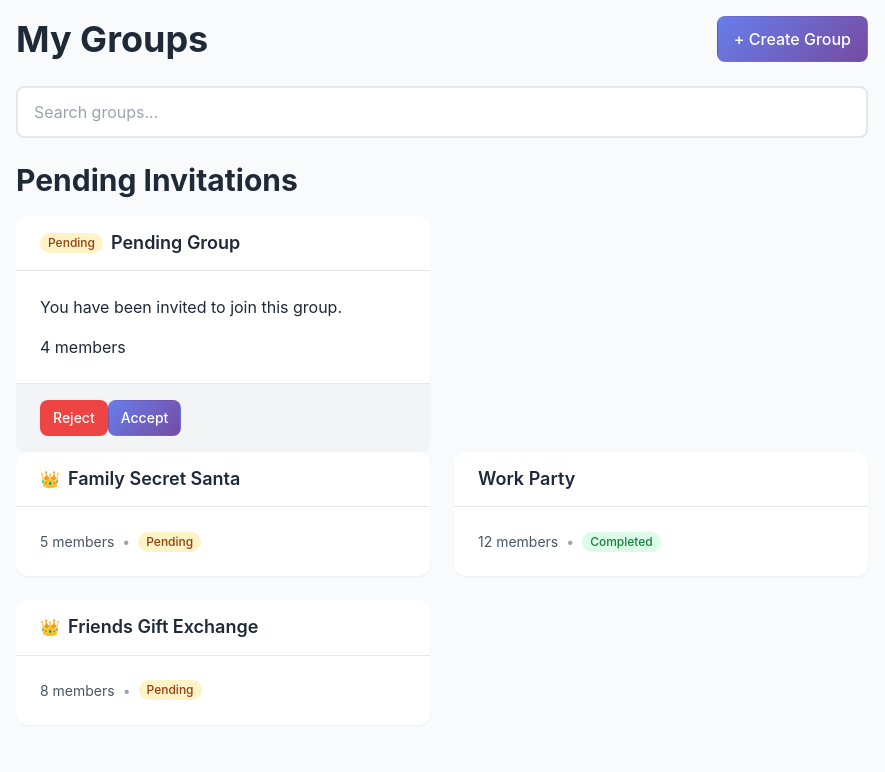
Test: GroupListComponent › Pending Invitations › should show invitation error on accept failure
Click the button with test id "accept-pending-1": (144, 418) [108,400,181,436]
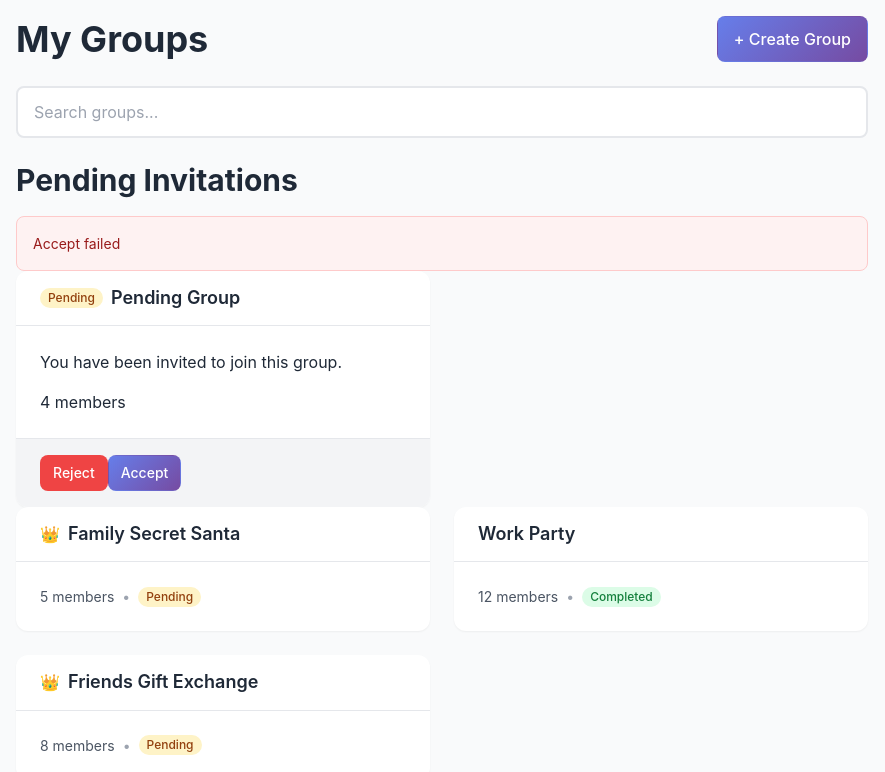
Expected: the text "Accept failed" is shown, [33,232,120,254]
Expected: the message "Accept failed" is shown, [16,216,868,270]
